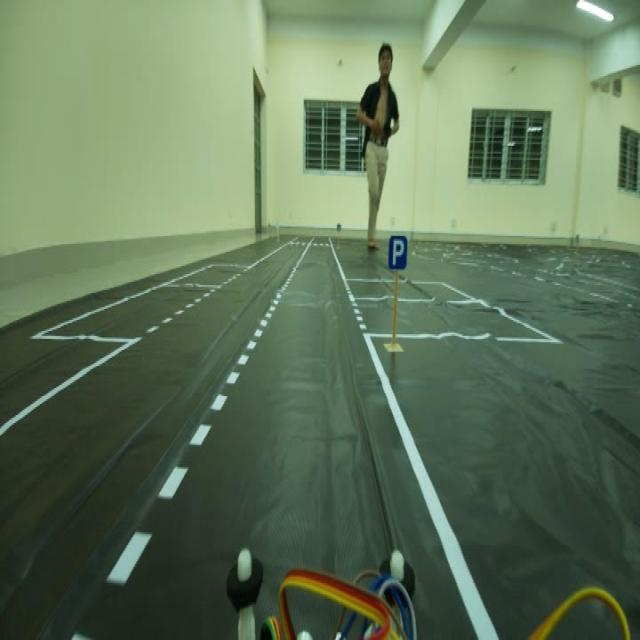parking: (385, 230, 408, 274)
